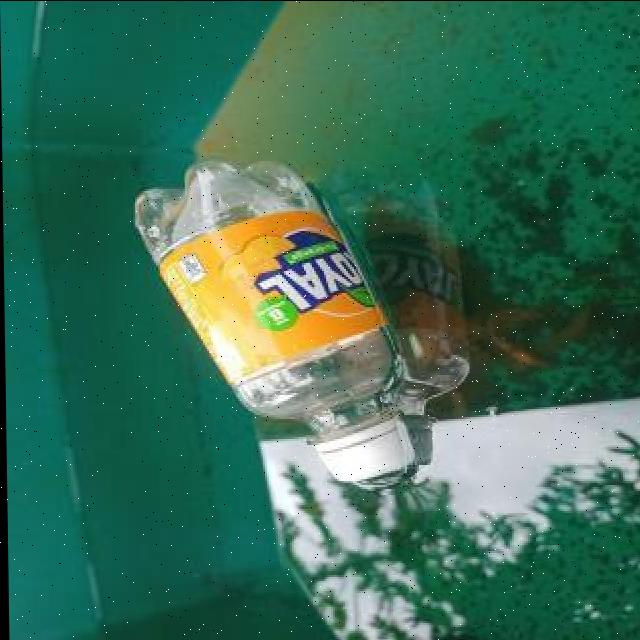bottle: (119, 150, 423, 484)
